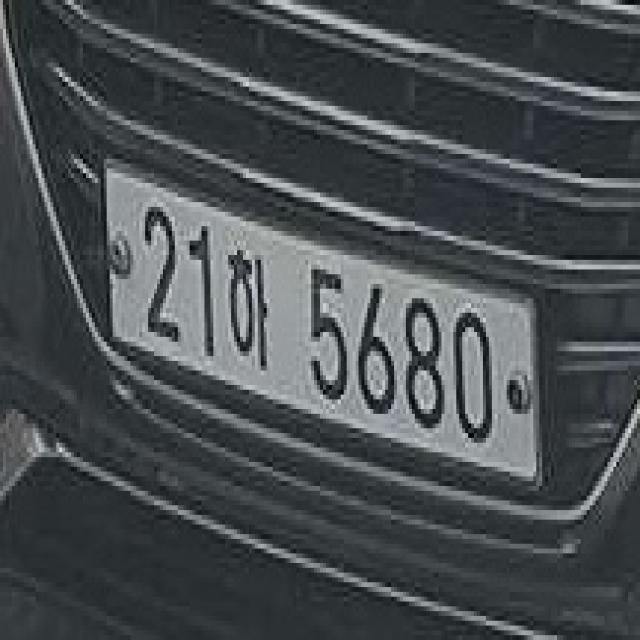0: (452, 292, 500, 455)
1: (184, 210, 221, 366)
2: (135, 194, 184, 350)
5: (304, 254, 352, 410)
6: (355, 271, 397, 424)
8: (401, 280, 448, 440)
ha: (223, 234, 275, 380)
license_plate: (107, 158, 542, 490)
